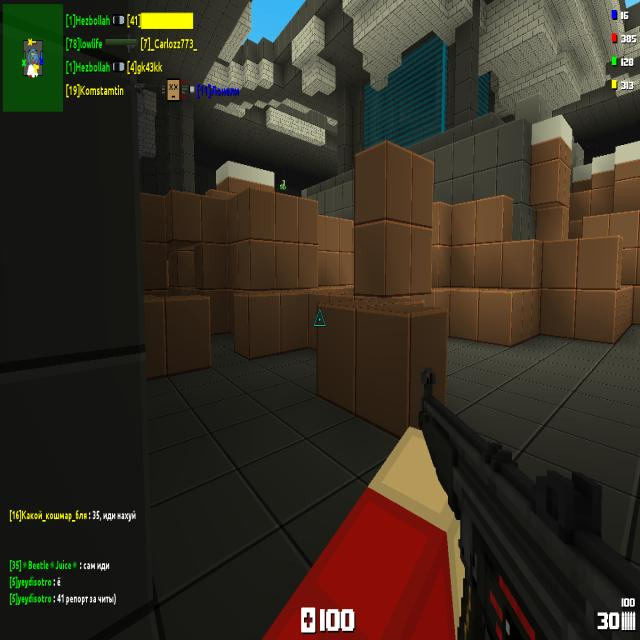enemy: (279, 180, 287, 190)
